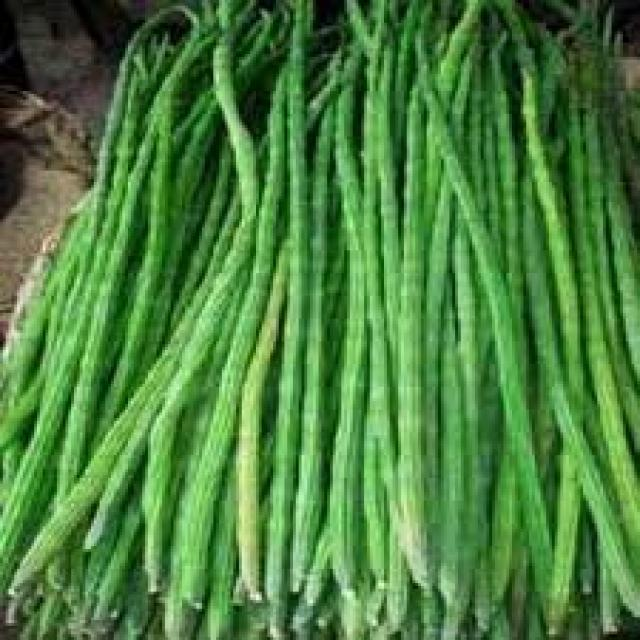organic waste: (0, 0, 637, 637), (410, 43, 566, 632), (131, 14, 262, 586), (509, 28, 637, 606), (171, 62, 276, 606), (57, 14, 142, 637), (5, 342, 174, 598), (563, 6, 637, 563), (512, 60, 580, 637), (347, 3, 407, 626), (421, 0, 469, 620), (265, 3, 310, 637), (327, 40, 370, 583), (401, 63, 441, 586), (0, 239, 63, 566), (288, 74, 324, 594), (233, 236, 284, 597), (80, 392, 154, 552), (196, 478, 239, 637), (159, 549, 199, 637)
